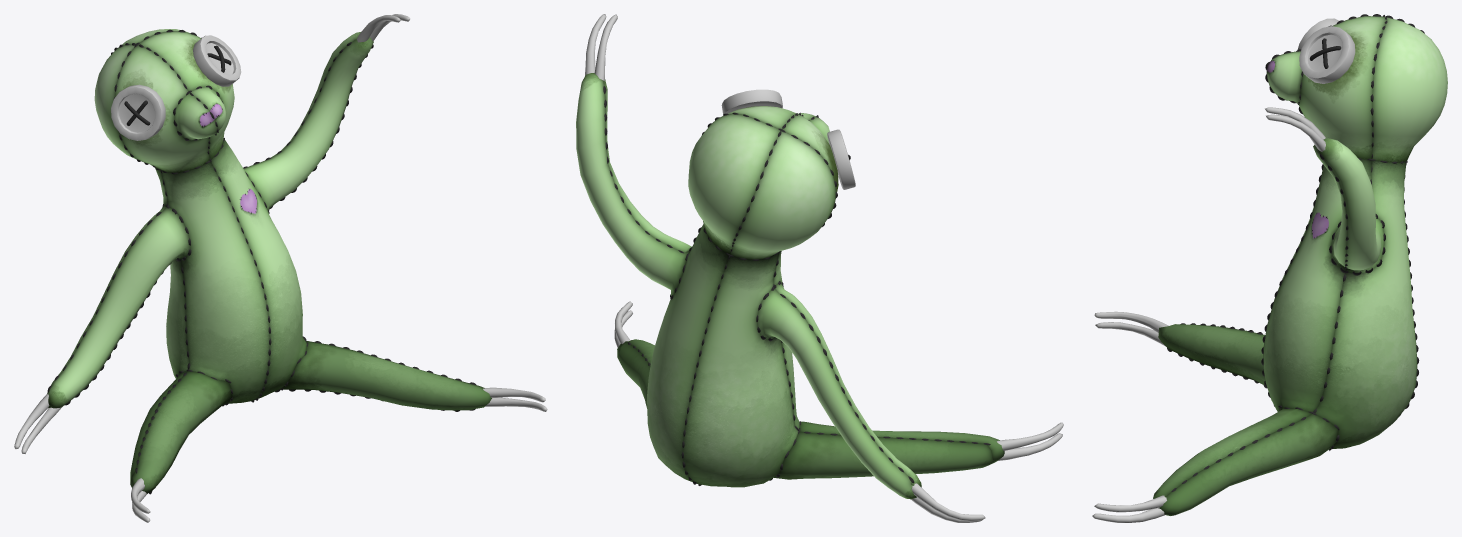
The model's file is StuffedAnimal02.fbx.
The picture shows the model from 3 angles, left to right: view 1: azimuth 30°, elevation 25°; view 2: azimuth 150°, elevation 25°; view 3: azimuth 270°, elevation 25°; orthographic projection. The views are drawn at different scales.
Parts seen in each view (by area): view 1: RetopoGroup006, stitch_body_mp001, claws, buttoneye_mp, buttoneye_mp001; view 2: RetopoGroup006, claws, stitch_body_mp001, buttoneye_mp001, buttoneye_mp; view 3: RetopoGroup006, claws, stitch_body_mp001, buttoneye_mp001.
Boxes of the visible parts, x1,y1,x2,y2 form: RetopoGroup006: [47, 29, 491, 493]; stitch_body_mp001: [47, 29, 476, 494]; claws: [14, 14, 547, 522]; buttoneye_mp: [111, 84, 165, 140]; buttoneye_mp001: [193, 35, 241, 86]; RetopoGroup006: [576, 73, 1004, 499]; claws: [585, 14, 1063, 522]; stitch_body_mp001: [603, 86, 990, 485]; buttoneye_mp001: [721, 89, 782, 114]; buttoneye_mp: [827, 129, 855, 189]; RetopoGroup006: [1153, 16, 1447, 515]; claws: [1092, 107, 1325, 522]; stitch_body_mp001: [1158, 14, 1424, 508]; buttoneye_mp001: [1299, 26, 1355, 83].
Bounding box in the file's own units: 59.01 × 48.72 × 39.38.
